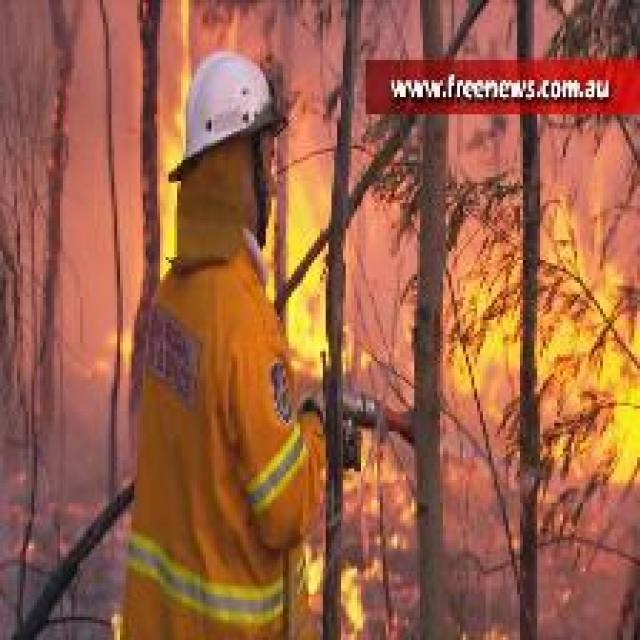Fire: (448, 190, 640, 490), (262, 172, 354, 382)
